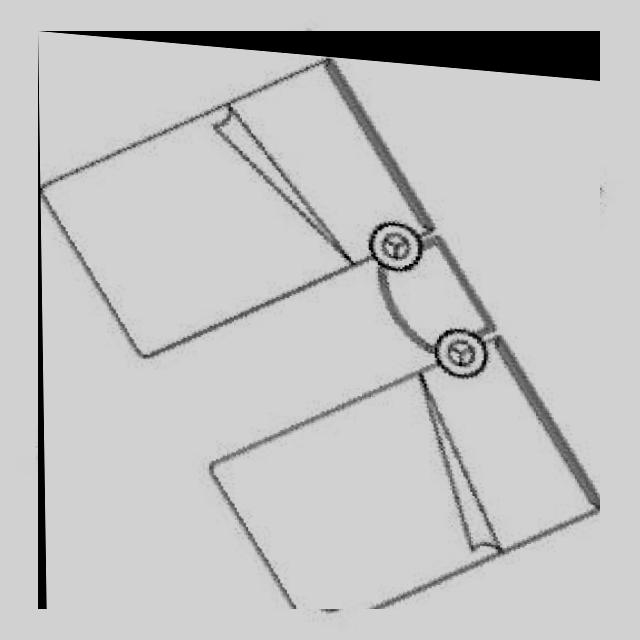bed: (38, 31, 600, 609)
